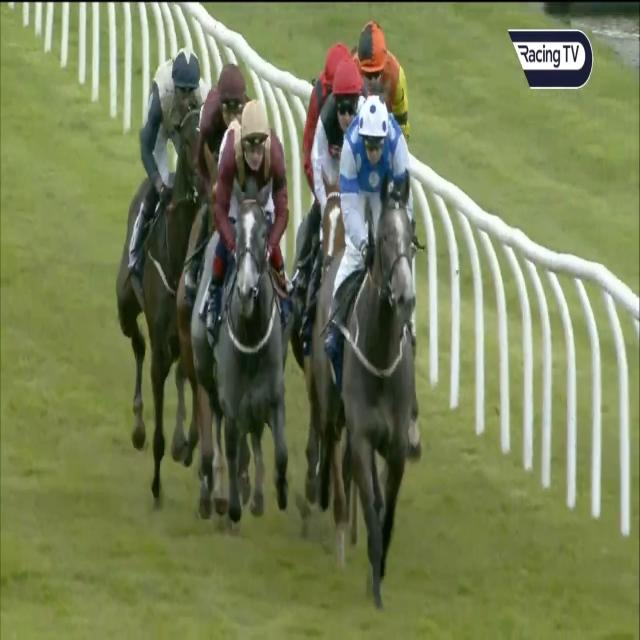horses-racing: (327, 96, 433, 580), (207, 94, 295, 543), (111, 35, 198, 463), (188, 57, 248, 242), (349, 12, 435, 136), (310, 57, 361, 262), (287, 35, 365, 164), (528, 386, 530, 388)
